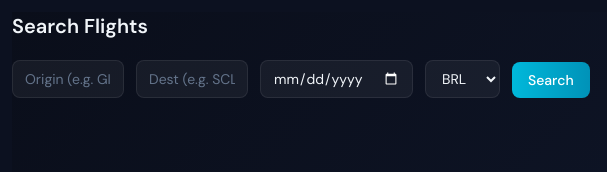
Scenario: SearchFlights › shows error on search failure
The image size is (607, 172).
Type "GIG" into the field with placeholder "Origin (e.g. GIG)" at (68, 79), box [12,60,124,98]
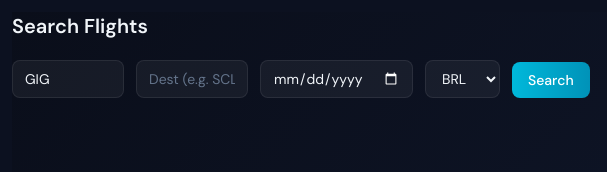
Type "SCL" into the field with placeholder "Dest (e.g. SCL)" at (192, 79), box [136,60,248,98]
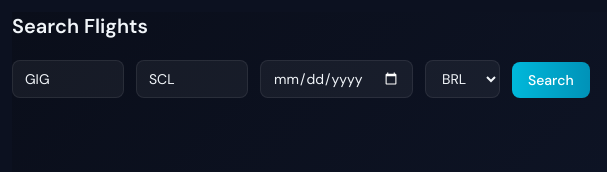
Click the button "Search" at (551, 80), box [512,62,590,98]
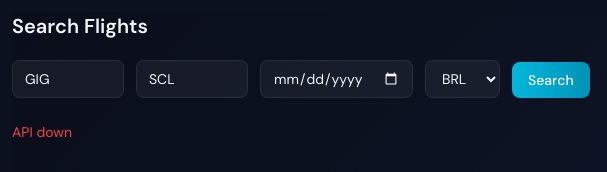
Now the text "API down" is shown, box [12,123,72,141]
